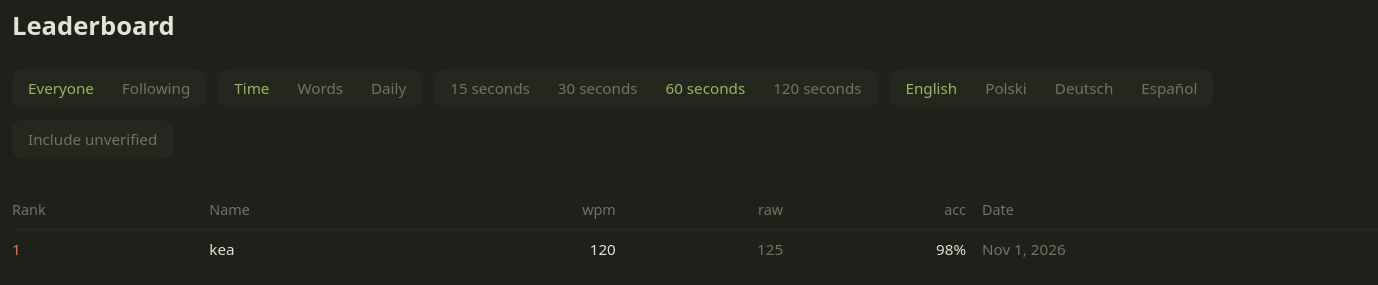
Test: leaderboard scope › switches scope on the pill and keeps it in the URL
The width and height of the screenshot is (1378, 285).
Expected: the table is shown, [12,191,1377,268]
What coordinates should you click on to do the following:
click the button "Following"
I would click on:
 (156, 89)
Its box is [110,73,202,104].
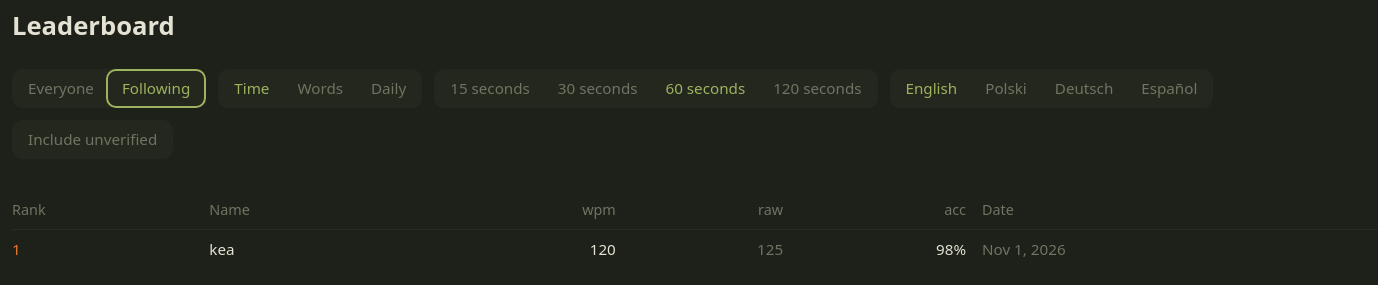
Now the button "Following" is pressed, box [110,73,202,104]
What coordinates should you click on to do the following:
click the button "Everyone"
I would click on:
 (61, 89)
Its box is [16,73,106,104].
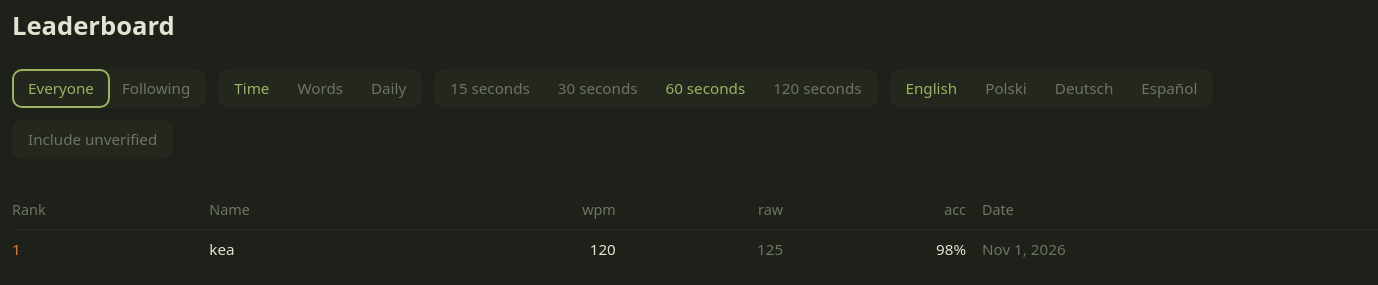
Now the button "Everyone" is pressed, box [16,73,106,104]
